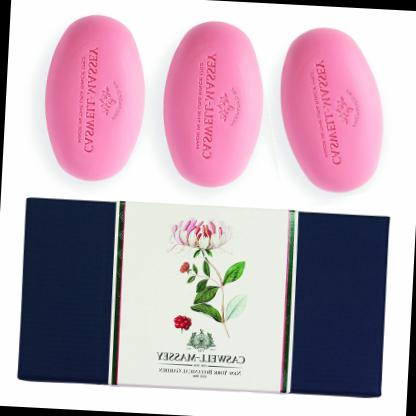soap: (256, 13, 405, 206)
